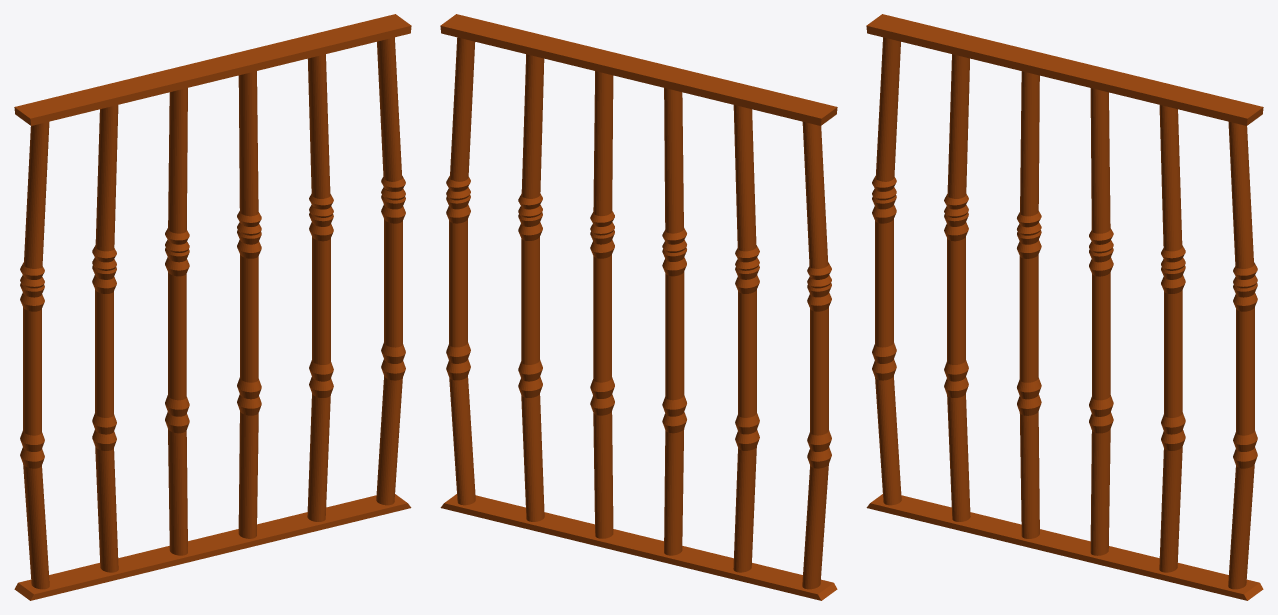
Rendered from dooropen1.obj.
3 views of the same model, side by side, from view 1: azimuth 30°, elevation 25°; view 2: azimuth 150°, elevation 25°; view 3: azimuth 330°, elevation 25° (orthographic).
Parts seen in each view (by area): view 1: Cube.001; view 2: Cube.001; view 3: Cube.001.
Boxes of the visible parts, <box> form: Cube.001: <box>14,14,411,600</box>; Cube.001: <box>440,14,837,600</box>; Cube.001: <box>866,14,1263,600</box>.
Size of the model in its own units: 0.461 by 0.5568 by 0.0335.
